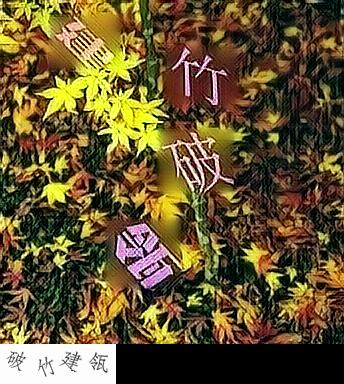character: (111, 220, 186, 292), (160, 129, 235, 194), (166, 43, 231, 108), (54, 14, 113, 72)
